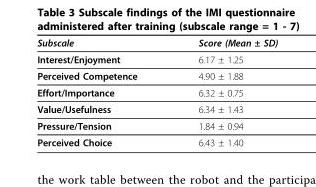table: (36, 36, 277, 147)
table column: (36, 36, 167, 147), (167, 36, 277, 147)
table column header: (36, 36, 277, 50)
table row: (36, 50, 277, 67), (36, 83, 277, 100), (36, 100, 277, 117), (36, 67, 277, 83), (36, 117, 277, 133), (36, 36, 277, 50), (36, 133, 277, 147)
